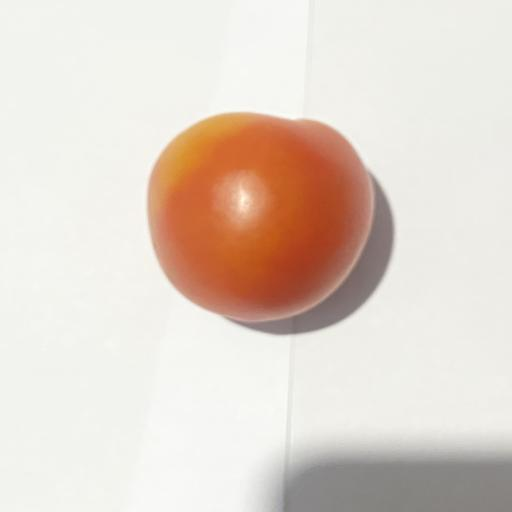ripe: (148, 113, 374, 322)
